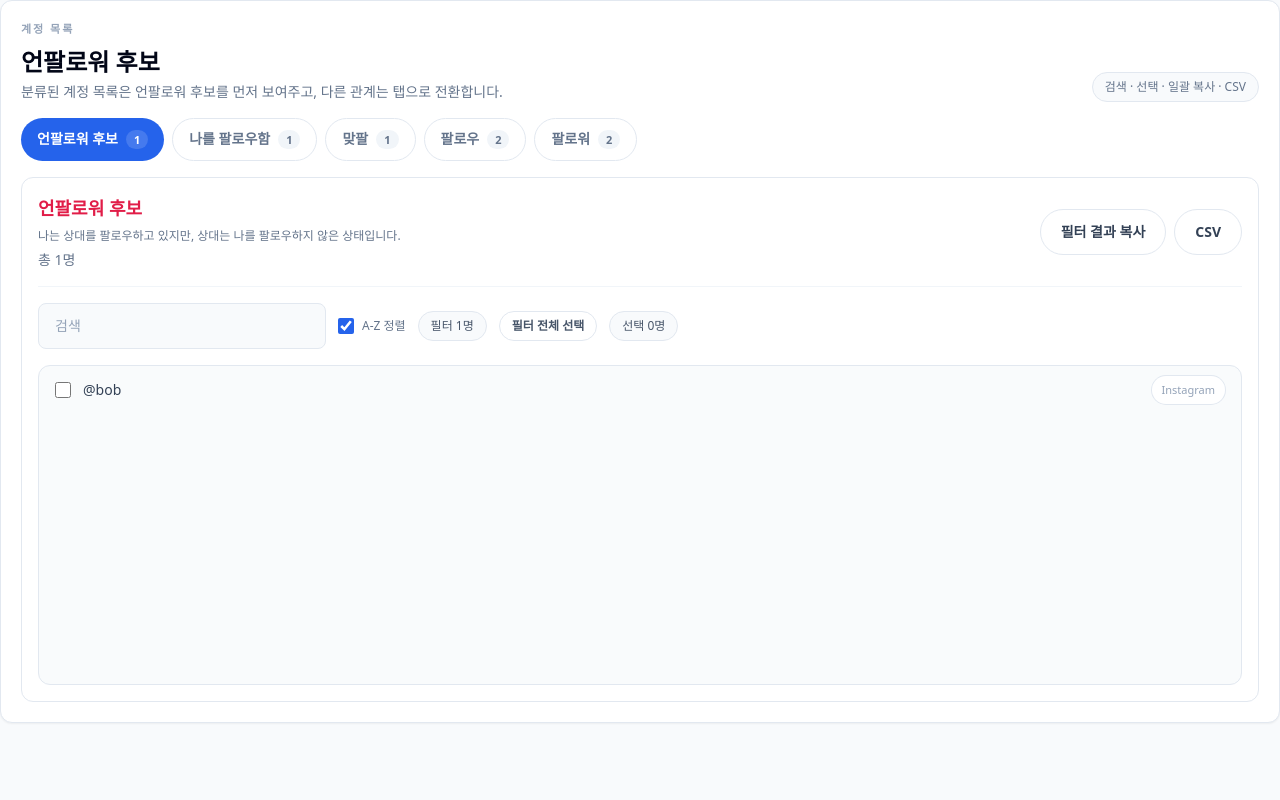
Test: ResultsTabs › maps relationship labels to the correct result rows
Expected: the text "@casey" is not shown
Click the button "나를 팔로우함1" at (245, 139), box x1=172 y1=118 x2=317 y2=160
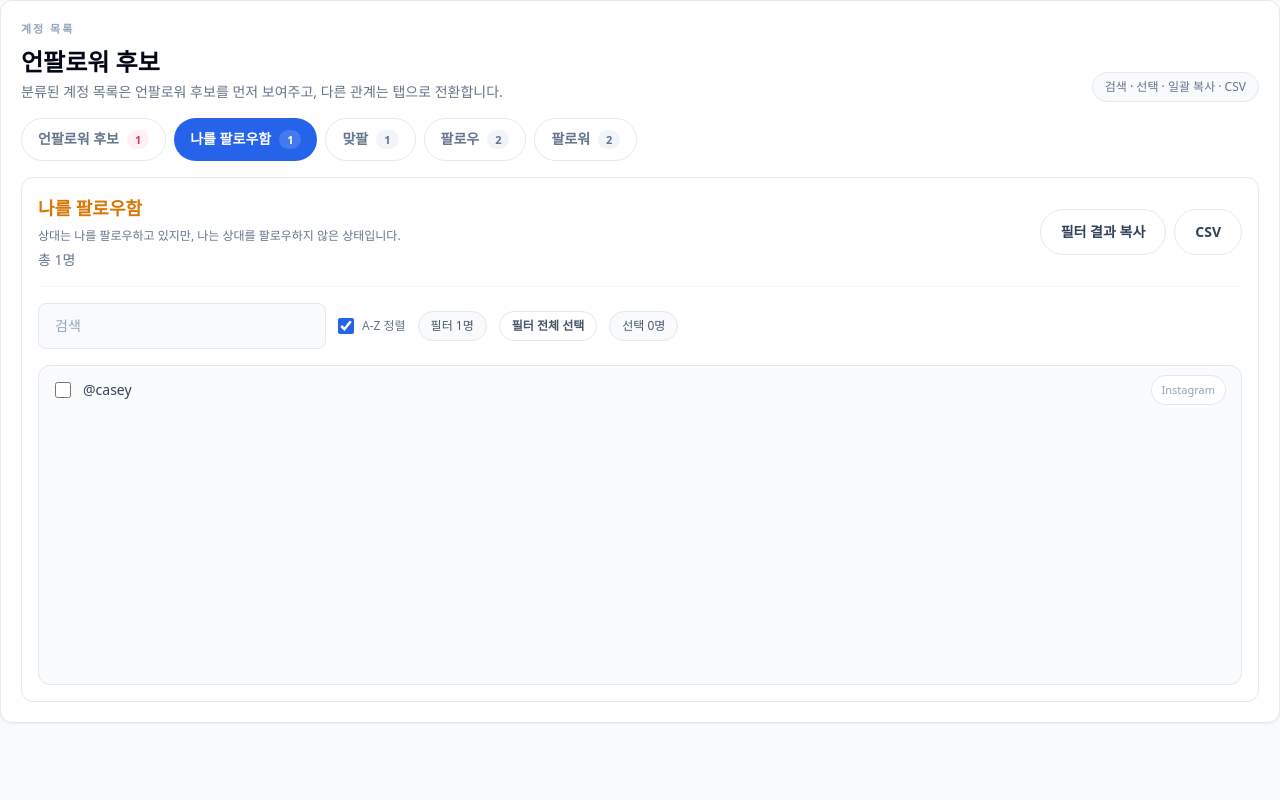
Expected: the text "@casey" is shown, x1=83 y1=380 x2=132 y2=400
Expected: the text "@bob" is gone
Click the button "맞팔1" at (370, 139), box x1=325 y1=118 x2=416 y2=160
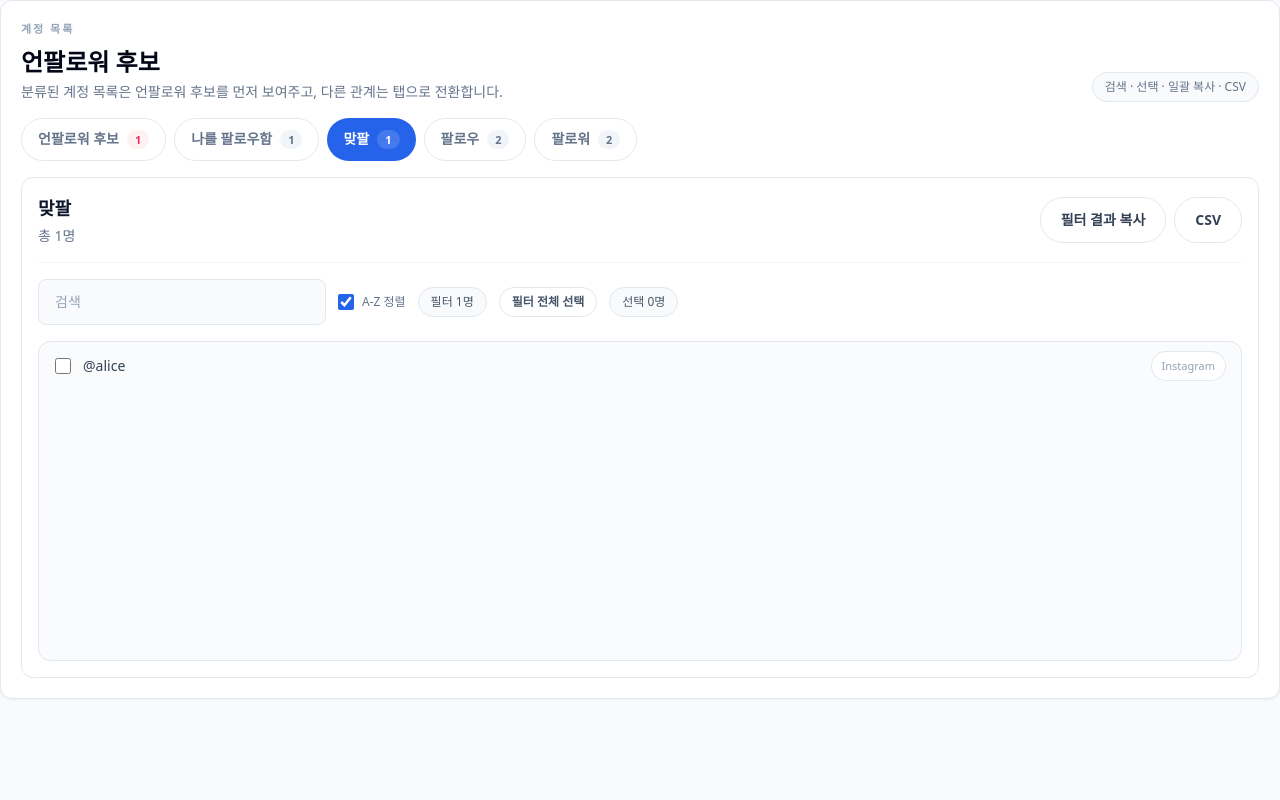
Expected: the text "@bob" is not shown
Expected: the text "@alice" is shown, x1=83 y1=356 x2=125 y2=376
Expected: the text "@casey" is gone
